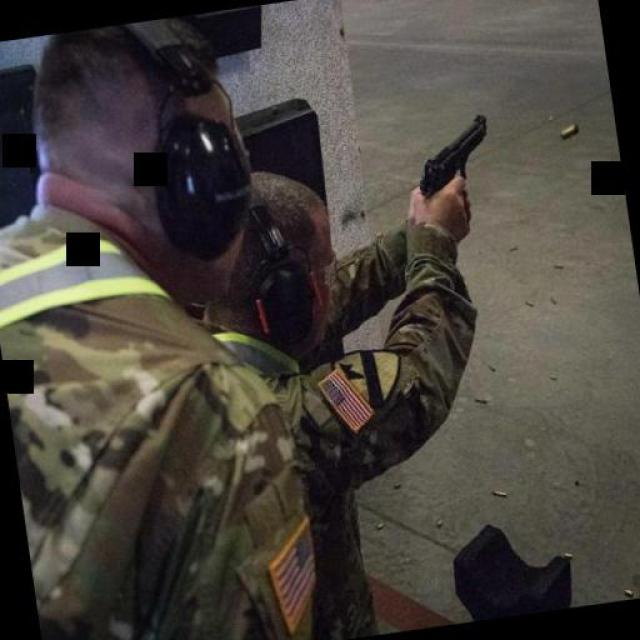gun: (405, 110, 500, 206)
